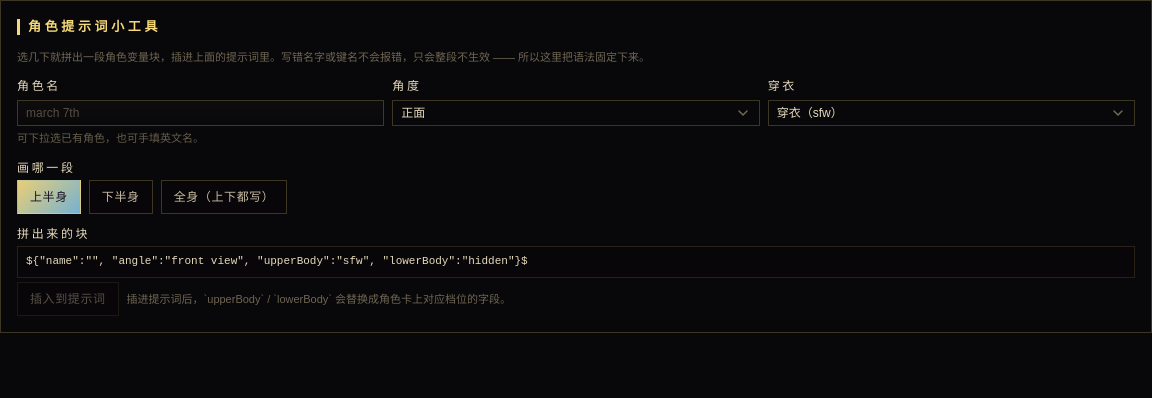
Test: 角色提示词小工具 › 名字在角色卡里找不到时会先提醒（否则那段会原样留给模型）
Type "查无此人" into the field labelled "角色名".
click(201, 113); type("查无此人")  # box 17,100 -> 384,126
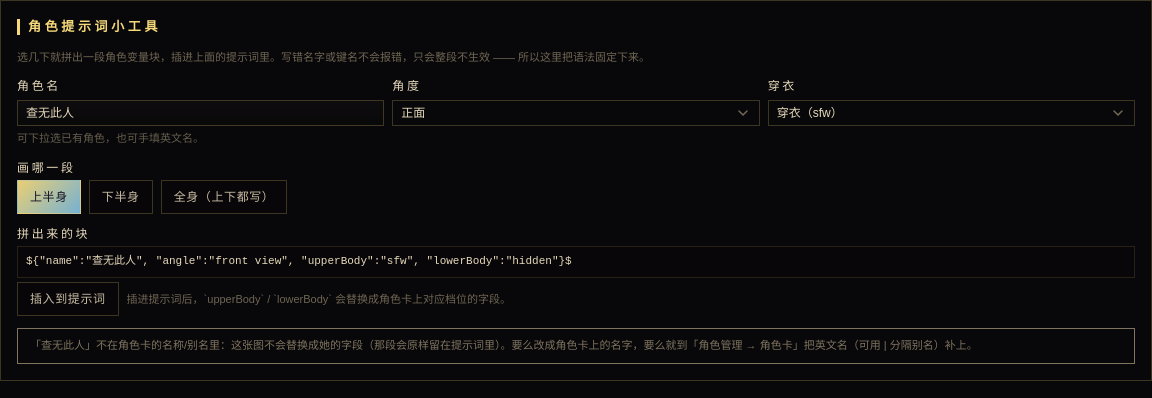
Expected: the text "不在角色卡的名称/别名里" is shown, 30,339 -> 978,351
# 名字对上就不提醒了（`|` 分隔的别名也算）。
Replace the text in the field labelled "角色名" with "萨姆" at (201, 113), box 17,100 -> 384,126
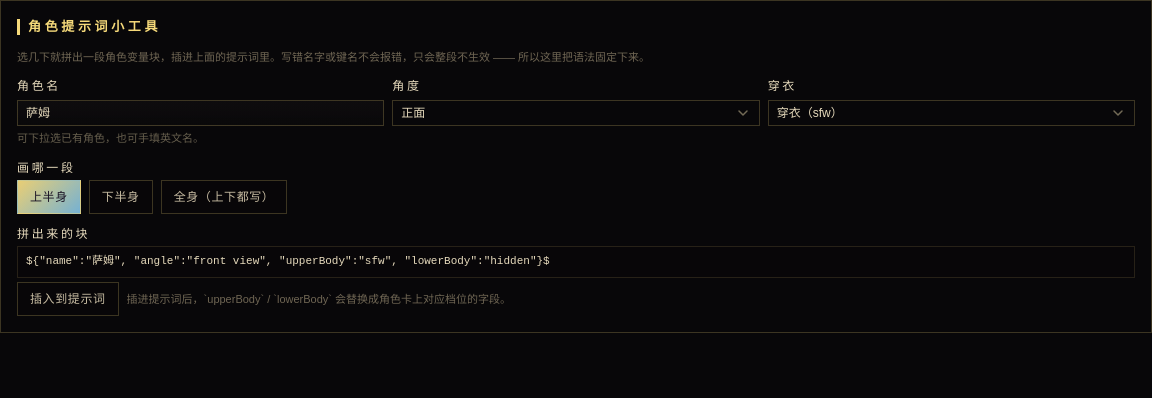
Expected: the text "不在角色卡的名称/别名里" is gone
